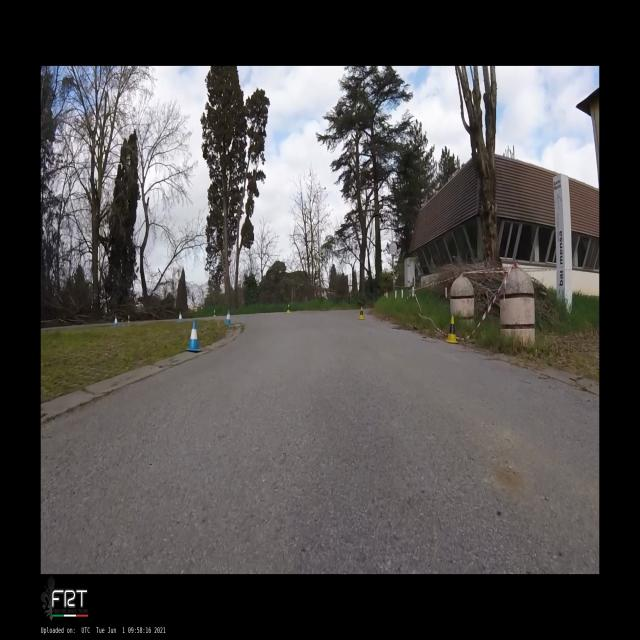blue_cone: (185, 321, 202, 352), (225, 310, 231, 325), (178, 311, 184, 322), (114, 315, 118, 327)
yellow_cone: (444, 316, 458, 344), (358, 307, 365, 320), (287, 304, 290, 313), (127, 315, 130, 323), (213, 310, 216, 316)
